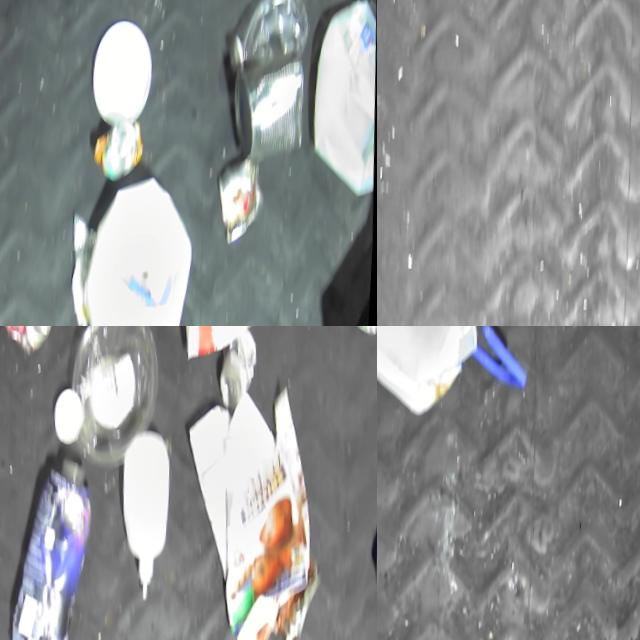can: (229, 67, 310, 170), (217, 335, 260, 418), (93, 126, 149, 189), (0, 326, 58, 364)
milk_jug: (61, 179, 207, 326), (307, 0, 377, 215), (377, 326, 492, 430)
plastic_bottle: (223, 0, 312, 74)
